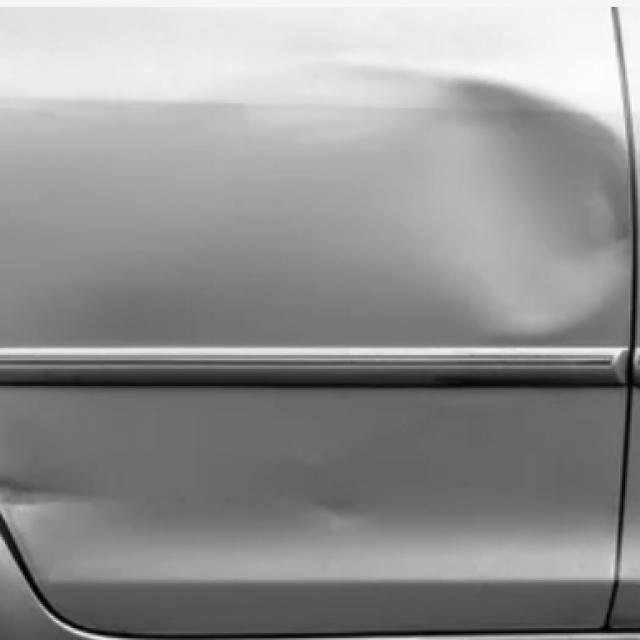dents: (273, 71, 640, 355), (292, 470, 402, 566)
